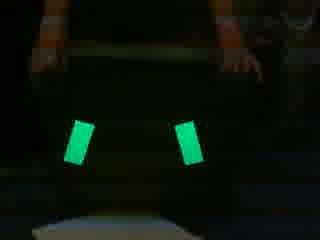target: (57, 116, 209, 167)
